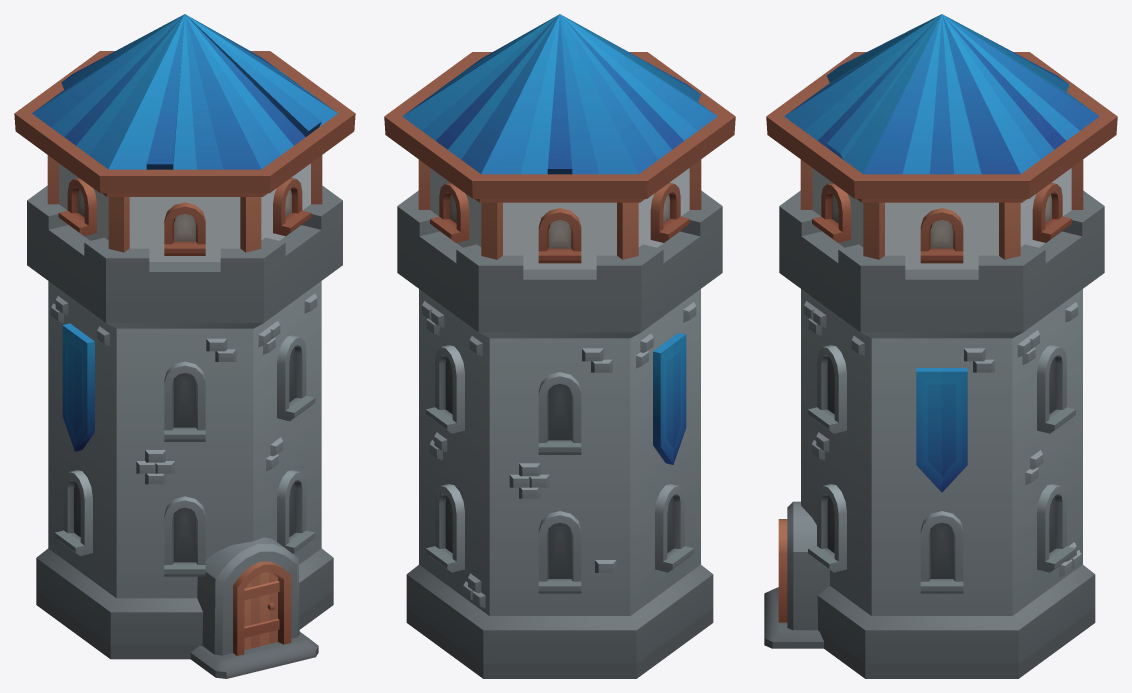
File: building_tower_A_blue.gltf
3 renders of one model, left to right at view 1: azimuth 30°, elevation 25°; view 2: azimuth 150°, elevation 25°; view 3: azimuth 270°, elevation 25°, orthographic. The views are drawn at different scales.
Parts seen in each view (by area): view 1: building_tower_A_blue, building_tower_A_top_blue; view 2: building_tower_A_blue, building_tower_A_top_blue; view 3: building_tower_A_blue, building_tower_A_top_blue.
Boxes of the visible parts, x1,y1,x2,y2 form: building_tower_A_blue: (27, 185, 342, 678); building_tower_A_top_blue: (14, 14, 355, 261); building_tower_A_blue: (397, 190, 722, 678); building_tower_A_top_blue: (384, 14, 735, 269); building_tower_A_blue: (764, 190, 1104, 678); building_tower_A_top_blue: (766, 14, 1117, 269).
Bounding box in the file's own units: 0.9933 × 2.19 × 1.15.
Materials: 1 (1 with a texture image).
